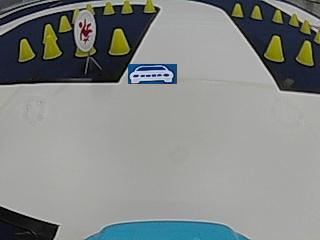cone: (263, 34, 284, 63), (109, 28, 130, 56), (295, 40, 314, 66), (42, 34, 60, 59), (18, 38, 33, 61), (58, 14, 70, 32), (231, 2, 243, 18), (250, 4, 262, 20), (271, 8, 283, 24), (121, 0, 133, 14), (103, 1, 115, 15), (300, 18, 310, 34), (289, 11, 298, 27), (84, 3, 95, 16), (144, 0, 155, 13)
tumble: (73, 13, 95, 47)
